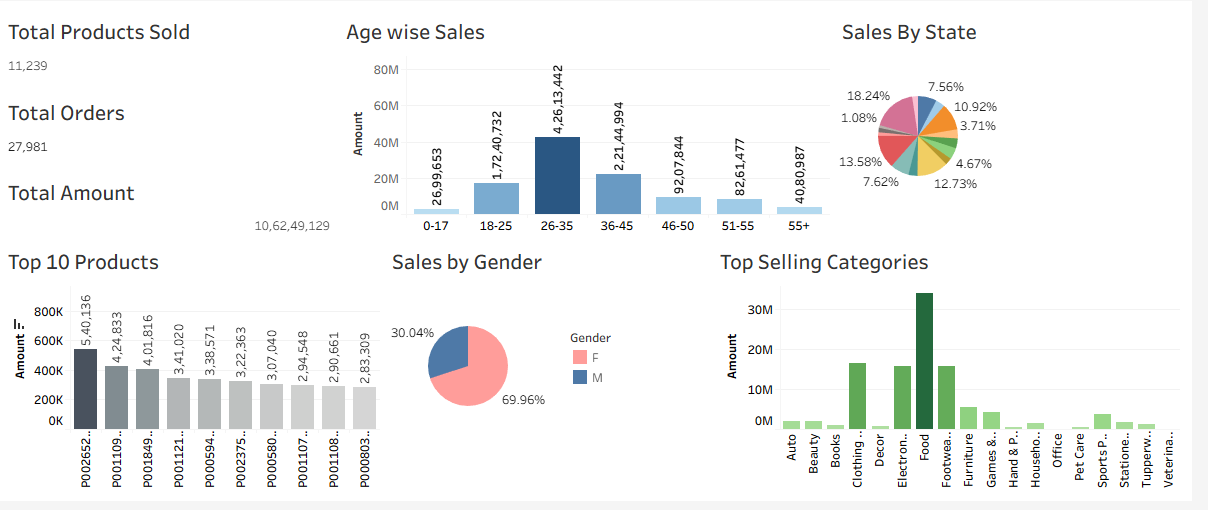

What the dashboard file says about the page in this screenshot:
{"tool":"tableau","page":{"name":"Dashboard 1","canvas":[1000,1000],"units":"permille","ordinal":0},"visuals":[{"type":"worksheet","title":"Sheet 8","mark":"Automatic","box":[6.7,10,303.3,88.8]},{"type":"worksheet","title":"Sheet 6","mark":"Automatic","box":[310,10,370.8,88.8]},{"type":"worksheet","title":"Sheet 7","mark":"Automatic","box":[680.8,10,158.3,168.8]},{"type":"worksheet","title":"Sheet 3","mark":"Pie","box":[6.7,98.8,303.3,277.5]},{"type":"worksheet","title":"Sheet 2","mark":"Bar","rows":["Amount"],"cols":["Product_Category"],"box":[310,98.8,370.8,530]},{"type":"worksheet","title":"Sheet 1","mark":"Pie","box":[680.8,178.8,158.3,298.8]},{"type":"legend","title":"Sheet 3","param":"[federated.0yvh1ow09ibiww1ct01ss1dhf2dc].[none:Gender:nk]","box":[178.3,190,116.7,72.5]},{"type":"worksheet","title":"Sheet 5","mark":"Bar","rows":["Amount"],"cols":["Product_ID"],"box":[6.7,376.2,303.3,613.8]},{"type":"legend","title":"Sheet 1","param":"[federated.0yvh1ow09ibiww1ct01ss1dhf2dc].[none:State:nk]","box":[680.8,477.5,158.3,432.5]},{"type":"worksheet","title":"Sheet 4","mark":"Automatic","rows":["Amount"],"cols":["Age_Group"],"box":[310,628.8,370.8,361.2]}]}

Visuals, with their boxes on the dashboard's canvas, which has no fixed pixel size, in thousandths of its width and height (x1, y1, x2, y2). These are canvas units, not pixel positions in the 1208x510 screenshot, which may show the page scaled, cropped or inside an application window:
"Sheet 8" worksheet: [7,10,310,99]
"Sheet 6" worksheet: [310,10,681,99]
"Sheet 7" worksheet: [681,10,839,179]
"Sheet 3" worksheet (Pie marks): [7,99,310,376]
"Sheet 2" worksheet (Bar marks): [310,99,681,629]
"Sheet 1" worksheet (Pie marks): [681,179,839,478]
"Sheet 3" legend: [178,190,295,262]
"Sheet 5" worksheet (Bar marks): [7,376,310,990]
"Sheet 1" legend: [681,478,839,910]
"Sheet 4" worksheet: [310,629,681,990]
